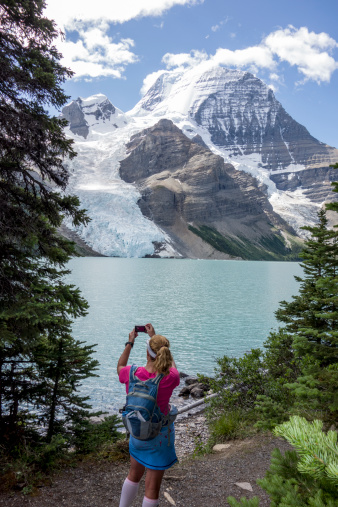em pe: (109, 324, 179, 501)
